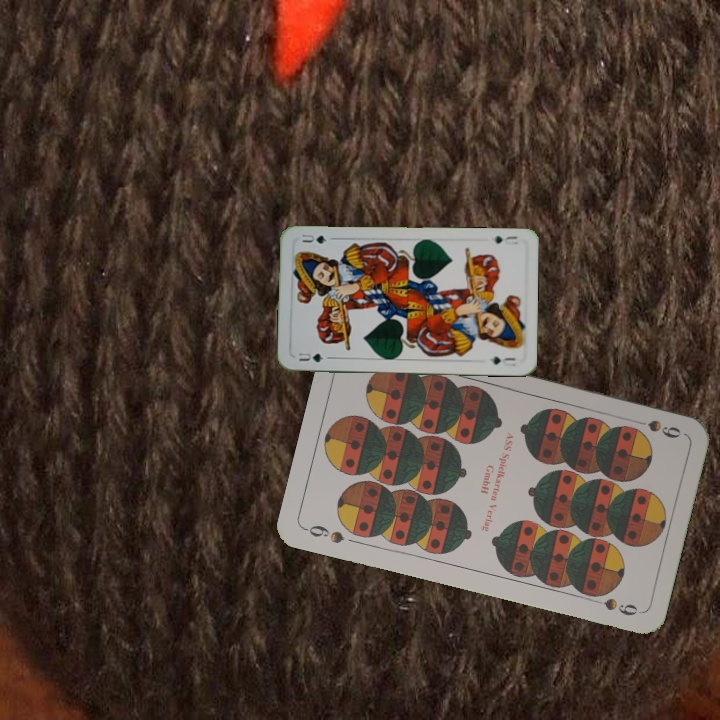GU: (294, 349, 326, 365), (490, 231, 522, 247)
S9: (626, 415, 683, 441), (301, 521, 347, 546)
